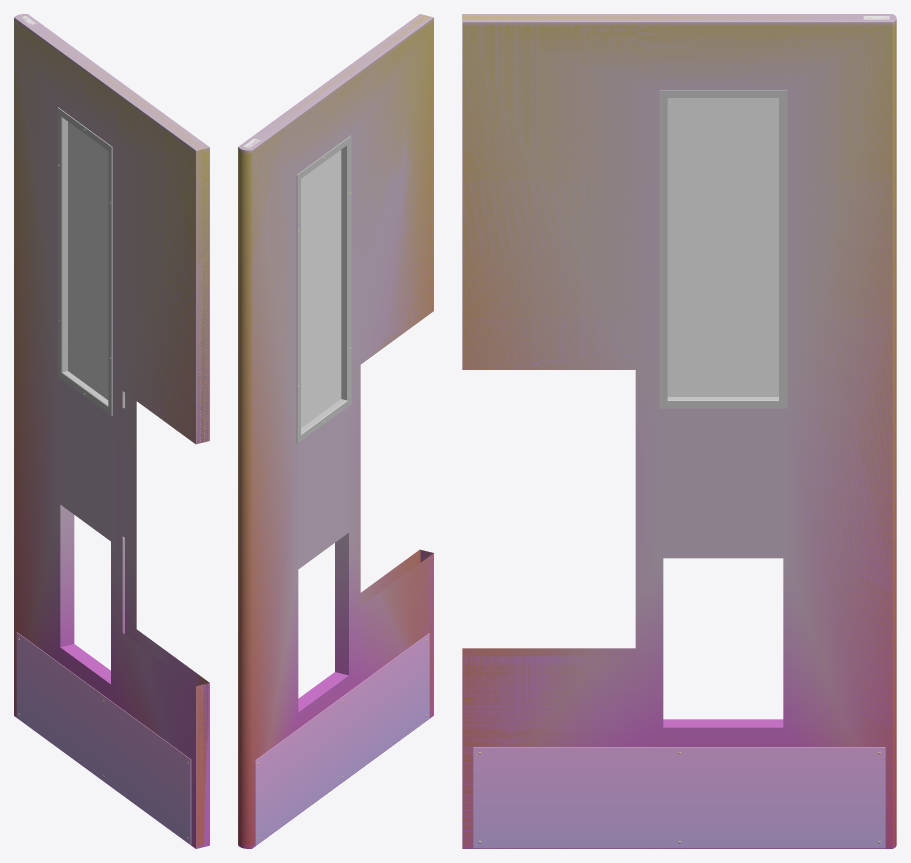
Rendered from Kit_DoorLeafBreak_SteelLouvre_DA.fbx.
3 renders of one model, left to right at view 1: azimuth 30°, elevation 25°; view 2: azimuth 150°, elevation 25°; view 3: azimuth 270°, elevation 25°, orthographic. The views are drawn at different scales.
Visible parts, largest first — view 1: body_L0, body_L2, body_L1; view 2: body_L0, body_L2, body_L1; view 3: body_L0, body_L2, body_L1.
Part boxes in pixels (x1,y1,x2,y2): body_L0: (14,14,209,848); body_L2: (14,15,209,848); body_L1: (15,14,209,848); body_L0: (238,14,433,848); body_L2: (238,15,433,847); body_L1: (240,14,433,562); body_L0: (462,14,896,848); body_L2: (462,14,896,848); body_L1: (462,14,895,656).
Bounding box in the file's own units: 0.0498 × 2.08 × 0.99.
